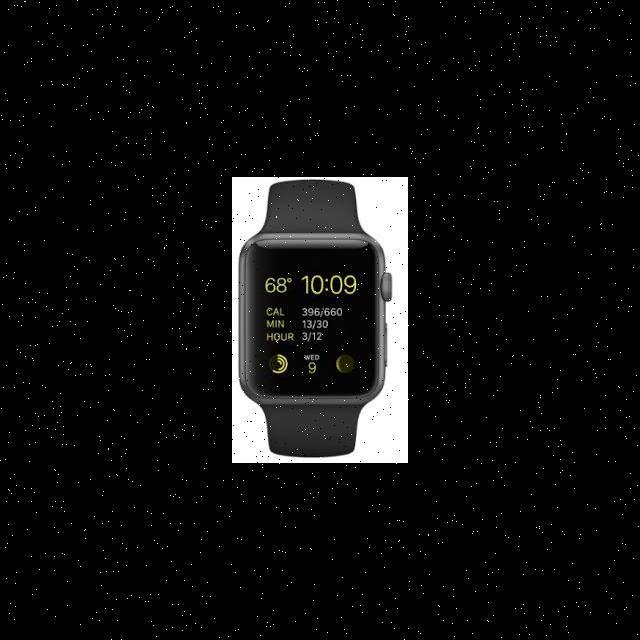watch: (238, 175, 397, 467)
